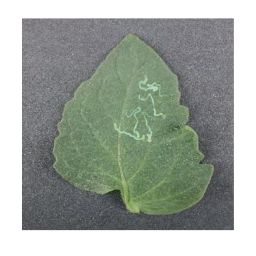liriomyza: (112, 75, 168, 142)
